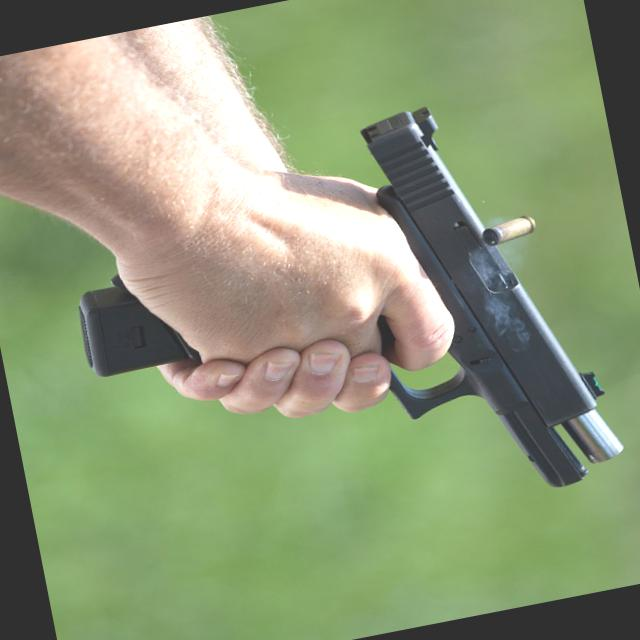handgun: (60, 74, 639, 581)
